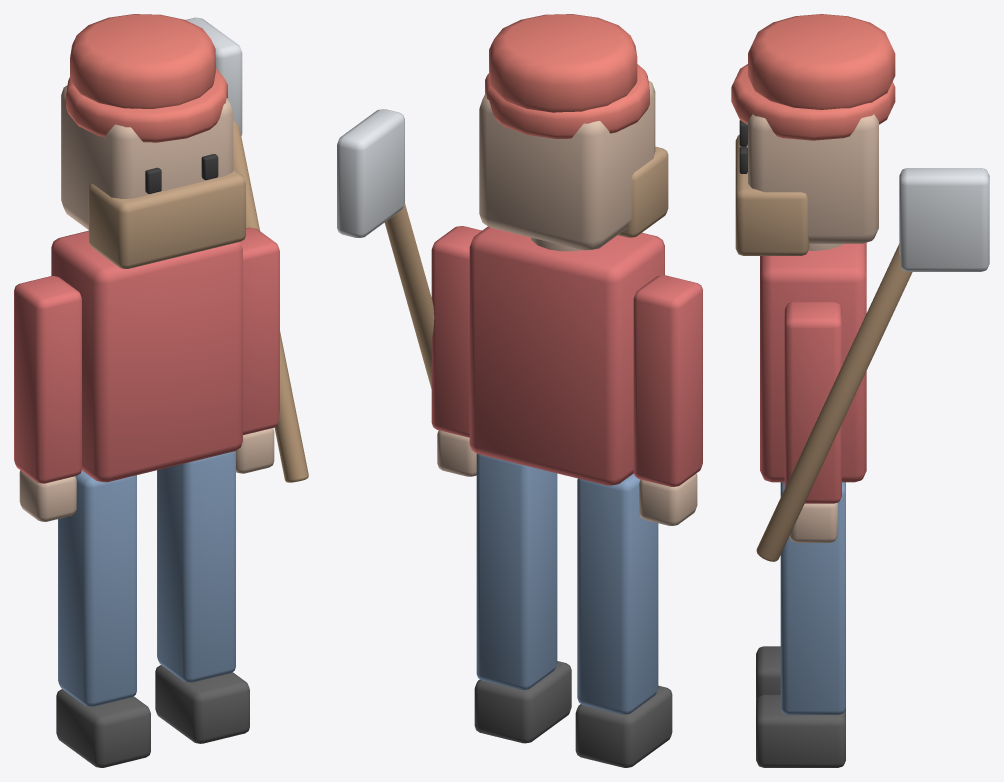
The model's file is npc_lumberjack.glb.
3 renders of one model, left to right at view 1: azimuth 30°, elevation 25°; view 2: azimuth 150°, elevation 25°; view 3: azimuth 270°, elevation 25°, orthographic. The views are drawn at different scales.
Visible parts, largest first — view 1: Grover_Torso, Grover_Leg_R, Grover_Leg_L, Grover_Arm_L, Grover_Beanie_Top, Grover_Beard, Grover_Head, Grover_Arm_R, Grover_Shoe_R, Grover_Shoe_L, Grover_Beanie_Band, Grover_Axe_Handle (+3 smaller); view 2: Grover_Torso, Grover_Head, Grover_Leg_R, Grover_Leg_L, Grover_Arm_L, Grover_Beanie_Top, Grover_Arm_R, Grover_Axe_Blade, Grover_Shoe_R, Grover_Shoe_L, Grover_Beanie_Band, Grover_Axe_Handle (+3 smaller); view 3: Grover_Torso, Grover_Beanie_Top, Grover_Leg_R, Grover_Head, Grover_Axe_Blade, Grover_Arm_R, Grover_Axe_Handle, Grover_Shoe_R, Grover_Beard, Grover_Beanie_Band, Grover_Hand_R, Grover_Shoe_L.
Part boxes in pixels (x1,y1,x2,y2): Grover_Torso: [51, 231, 242, 482]; Grover_Leg_R: [157, 451, 235, 682]; Grover_Leg_L: [58, 470, 136, 706]; Grover_Arm_L: [14, 276, 81, 483]; Grover_Beanie_Top: [70, 14, 215, 108]; Grover_Beard: [88, 169, 245, 268]; Grover_Head: [61, 85, 233, 229]; Grover_Arm_R: [240, 227, 279, 435]; Grover_Shoe_R: [155, 665, 249, 743]; Grover_Shoe_L: [56, 689, 150, 767]; Grover_Beanie_Band: [66, 68, 227, 142]; Grover_Axe_Handle: [233, 121, 308, 482]; Grover_Torso: [469, 226, 664, 485]; Grover_Head: [479, 81, 655, 250]; Grover_Leg_R: [476, 454, 557, 689]; Grover_Leg_L: [577, 473, 658, 714]; Grover_Arm_L: [633, 275, 702, 486]; Grover_Beanie_Top: [489, 14, 637, 112]; Grover_Arm_R: [431, 226, 481, 437]; Grover_Axe_Blade: [337, 109, 404, 237]; Grover_Shoe_R: [474, 661, 571, 743]; Grover_Shoe_L: [575, 685, 672, 767]; Grover_Beanie_Band: [485, 64, 649, 138]; Grover_Axe_Handle: [384, 203, 434, 388]; Grover_Torso: [760, 242, 866, 482]; Grover_Beanie_Top: [748, 14, 895, 109]; Grover_Leg_R: [780, 482, 845, 714]; Grover_Head: [748, 114, 878, 243]; Grover_Axe_Blade: [899, 168, 989, 271]; Grover_Arm_R: [784, 302, 841, 503]; Grover_Axe_Handle: [756, 244, 912, 561]; Grover_Shoe_R: [756, 694, 845, 767]; Grover_Beard: [735, 134, 809, 255]; Grover_Beanie_Band: [731, 64, 895, 140]; Grover_Hand_R: [789, 502, 837, 542]; Grover_Shoe_L: [756, 646, 780, 701].
Size of the model in its own units: 0.745 by 1.87 by 0.63.
